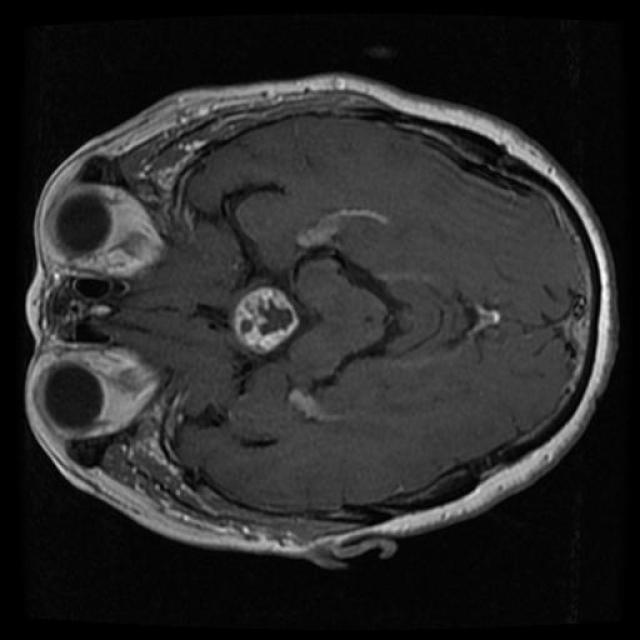Pituitary: (232, 286, 299, 354)
